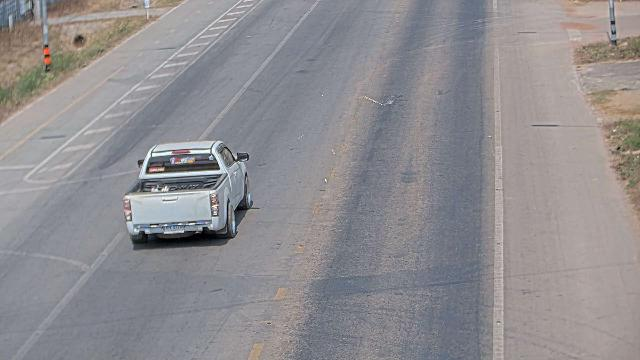pickup-truck: (122, 139, 253, 244)
